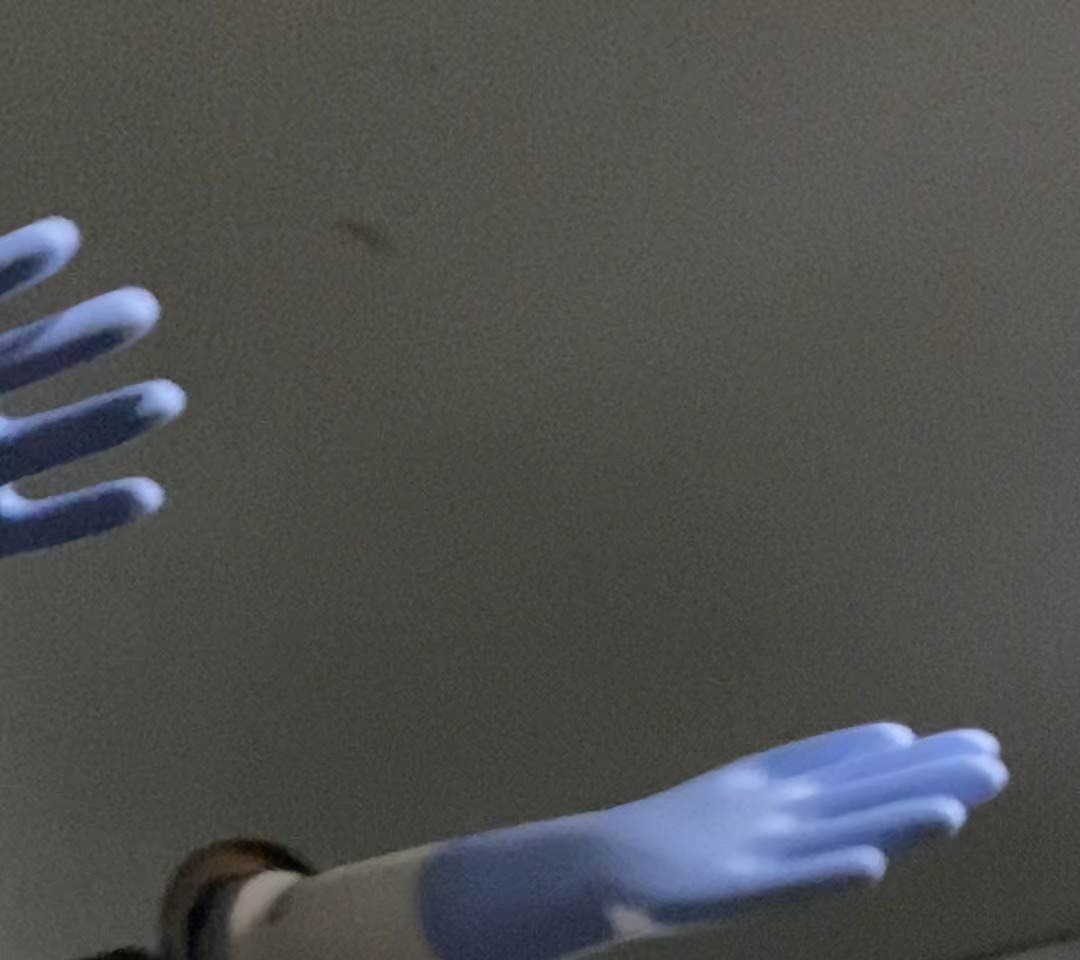glove: (411, 717, 1012, 955), (1, 209, 196, 567)
